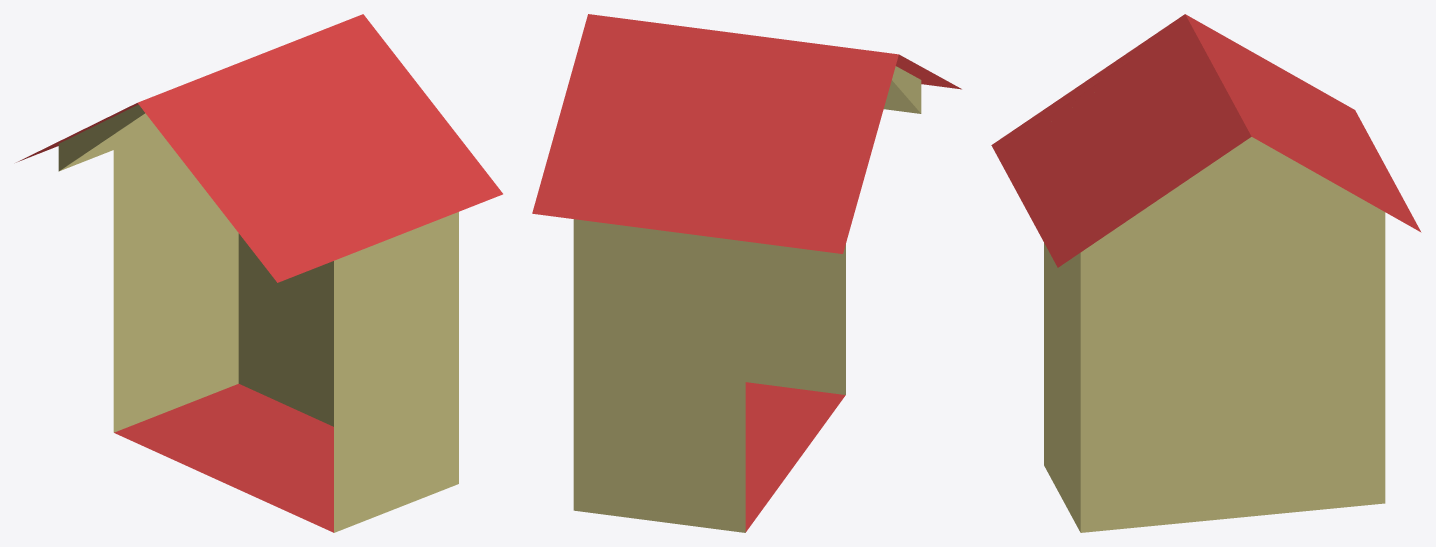
3 renders of one model, left to right at view 1: azimuth 30°, elevation 25°; view 2: azimuth 150°, elevation 25°; view 3: azimuth 270°, elevation 25°, orthographic. The views are drawn at different scales.
Bounding box in the file's own units: 12.32 × 14.19 × 14.29.
